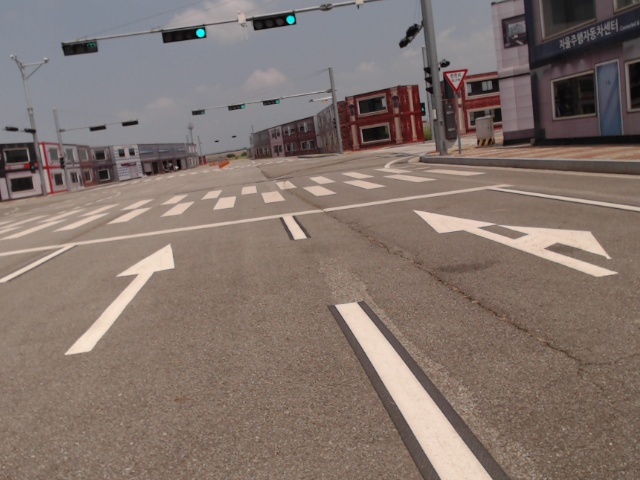straight_green_4: (163, 25, 208, 44), (252, 10, 295, 29), (229, 103, 247, 111), (262, 99, 279, 106)
